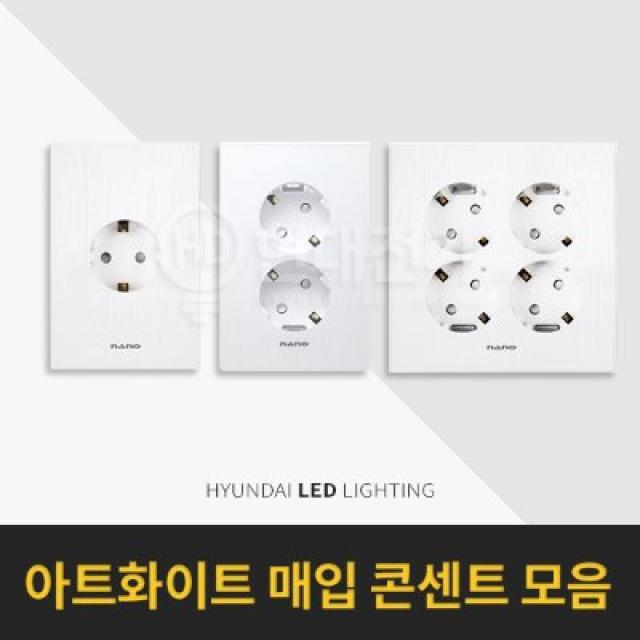typeb: (383, 132, 622, 384), (39, 130, 209, 389), (213, 129, 380, 379)
